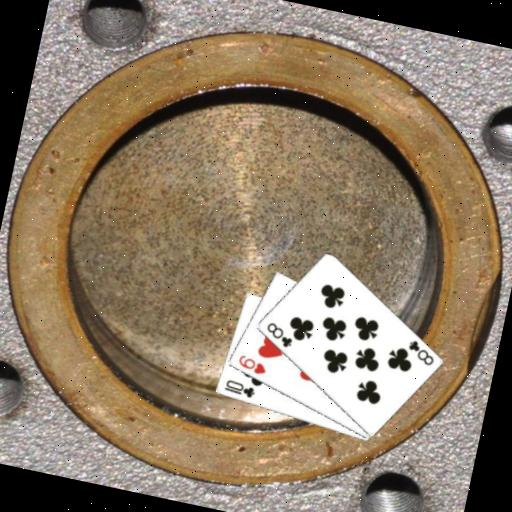10C: (220, 376, 258, 401)
6H: (233, 351, 270, 378)
8C: (260, 317, 297, 350), (402, 335, 439, 368)
